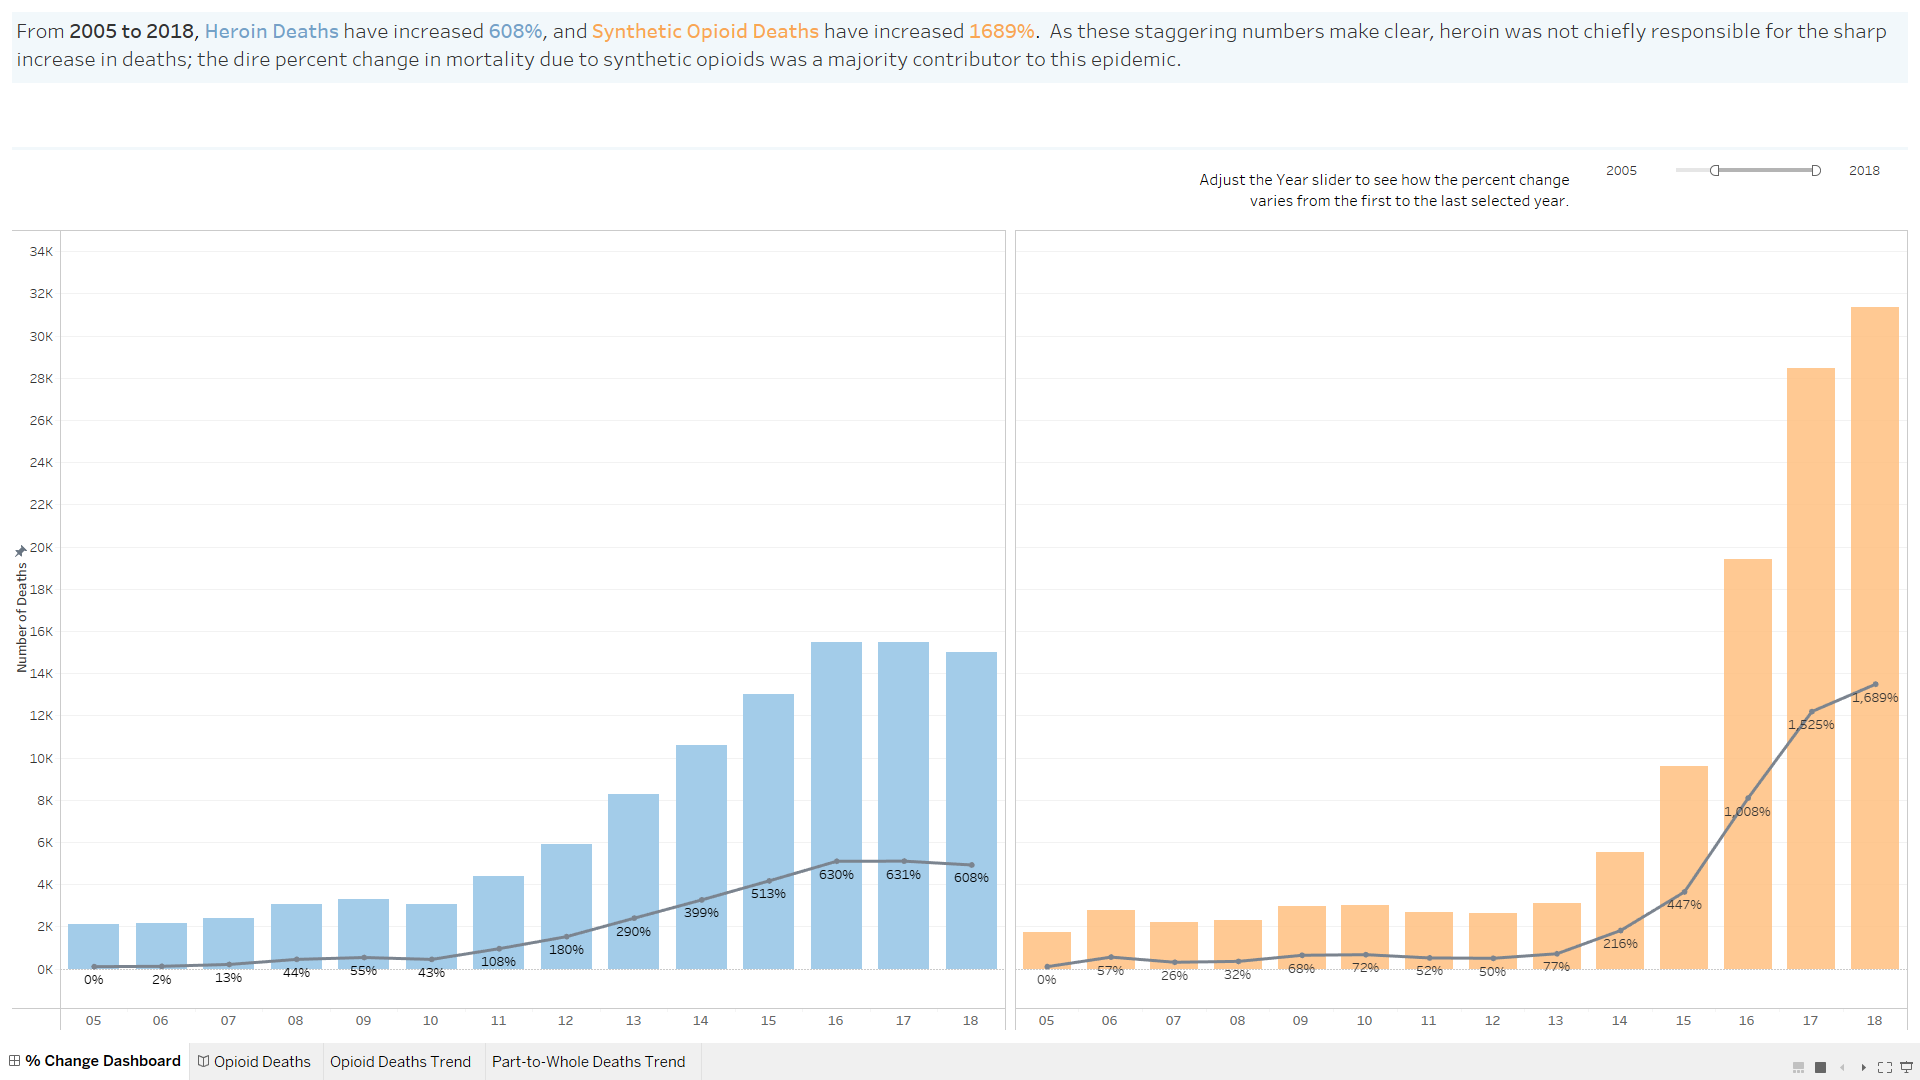

What the dashboard file says about the page in this screenshot:
{"tool":"tableau","page":{"name":"% Change Dashboard","canvas":[1000,1000],"units":"permille","ordinal":0},"visuals":[{"type":"worksheet","title":"Dynamic Title","mark":"Automatic","box":[5,9.4,990.1,140]},{"type":"blank","box":[5,149.4,495,68.2]},{"type":"text","box":[499.9,149.4,320.6,68.2]},{"type":"filter","title":"Heroin Deaths % Change","param":"[federated.0r9ozi80qh8d86114rwm11d2suqw].[yr:Year:qk]","box":[820.6,149.4,174.5,68.2]},{"type":"worksheet","title":"Heroin Deaths % Change","mark":"Automatic","rows":["Deaths"],"cols":["Year"],"box":[5,217.6,521.5,773]},{"type":"worksheet","title":"Other Synthetic Deaths % Change","mark":"Automatic","rows":["Deaths (copy)_350436411430748160"],"cols":["Year"],"box":[526.4,217.6,468.6,773]}]}

Visuals, with their boxes on the dashboard's canvas, which has no fixed pixel size, in thousandths of its width and height (x1, y1, x2, y2). These are canvas units, not pixel positions in the 1920x1080 screenshot, which may show the page scaled, cropped or inside an application window:
"Dynamic Title" worksheet: 5,9,995,149
blank: 5,149,500,218
text: 500,149,820,218
"Heroin Deaths % Change" filter: 821,149,995,218
"Heroin Deaths % Change" worksheet: 5,218,526,991
"Other Synthetic Deaths % Change" worksheet: 526,218,995,991
